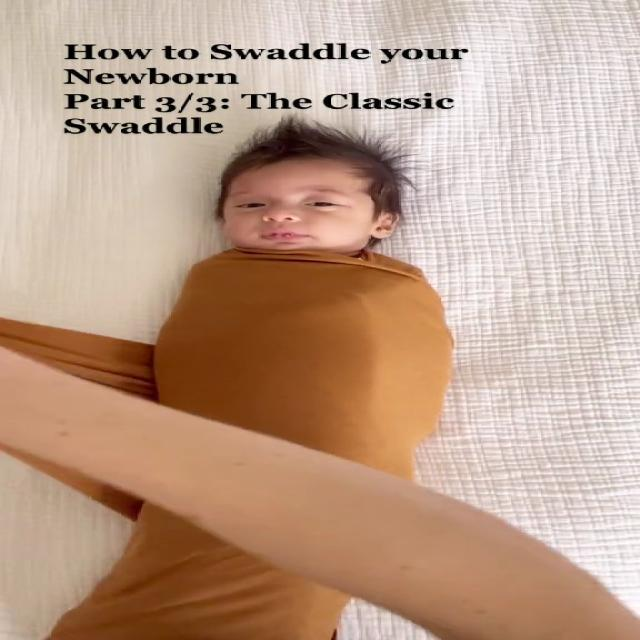baby: (98, 129, 452, 640)
